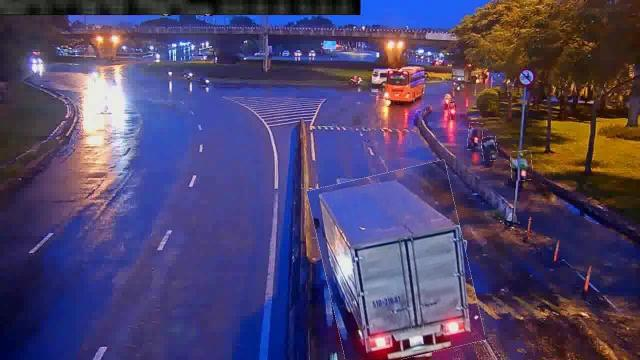Bike: (511, 151, 533, 181), (468, 122, 484, 150), (481, 136, 497, 162), (449, 102, 455, 120)
Truck: (316, 166, 476, 360)
